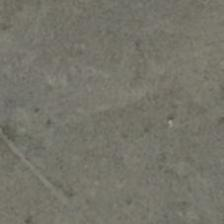Non_Crack: (19, 40, 203, 193)
